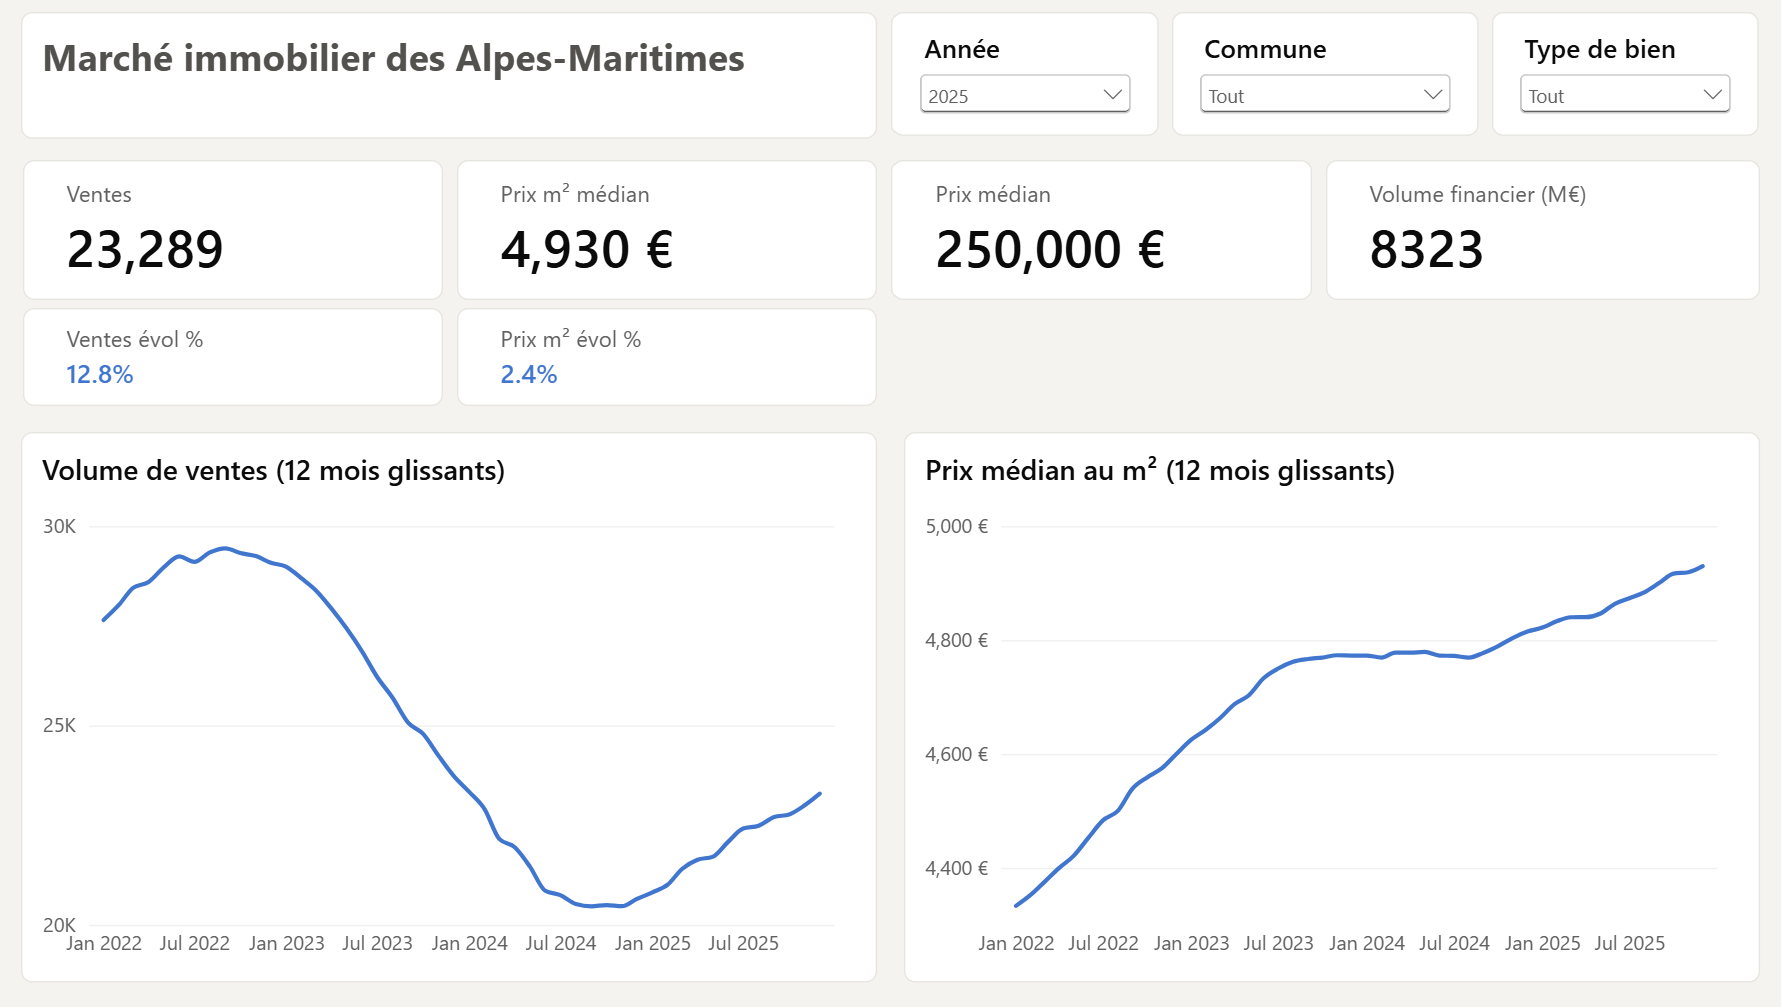

The dashboard page shown, as its layout file describes it:
{"tool":"powerbi","page":{"name":"Vue d’ensemble","canvas":[1280,720],"ordinal":0},"visuals":[{"type":"cardVisual","fields":{"Data":["_Mesures.Ventes"]},"box":[20,115.8,300,100],"z":0},{"type":"textbox","box":[19.2,9.6,611.5,90.4],"z":1000},{"type":"slicer","fields":{"Values":["dim_date.annee"]},"box":[640.4,9.6,190.4,88.5],"z":2000},{"type":"slicer","fields":{"Values":["dim_commune.nom_commune"]},"box":[840.4,9.6,219.2,88.5],"z":3000},{"type":"slicer","fields":{"Values":["dim_type_bien.type_local"]},"box":[1069.2,9.6,190.4,88.5],"z":4000},{"type":"cardVisual","fields":{"Data":["_Mesures.Volume financier (M€)"]},"box":[950,115.8,310,100],"z":5000},{"type":"cardVisual","fields":{"Data":["_Mesures.Prix m² médian"]},"box":[330,115.8,300,100],"z":6000},{"type":"cardVisual","fields":{"Data":["_Mesures.Prix médian"]},"box":[640,115.8,300,100],"z":7000},{"type":"cardVisual","fields":{"Data":["_Mesures.Ventes évol %"]},"box":[20,220.8,300,70],"z":8000},{"type":"cardVisual","fields":{"Data":["_Mesures.Prix m² évol %"]},"box":[330,220.8,300,70],"z":9000},{"type":"lineChart","title":"Volume de ventes (12 mois glissants)","fields":{"Category":["dim_date.debut_mois"],"Y":["_Mesures.Ventes 12 mois glissants"]},"box":[19.2,309.6,611.5,392.3],"z":10000},{"type":"lineChart","title":"Prix médian au m² (12 mois glissants)","fields":{"Category":["dim_date.debut_mois"],"Y":["_Mesures.Prix m² médian 12 mois glissants"]},"box":[648.1,309.6,611.5,392.3],"z":11000}]}

Visuals, with their boxes in screenshot pixels (x1, y1, x2, y2), scaled from the page's 1280x720 canvas onto the 1782x1008 screenshot:
cardVisual - _Mesures.Ventes: crop(28, 162, 446, 302)
textbox: crop(27, 13, 878, 140)
slicer - dim_date.annee: crop(892, 13, 1157, 137)
slicer - dim_commune.nom_commune: crop(1170, 13, 1475, 137)
slicer - dim_type_bien.type_local: crop(1489, 13, 1754, 137)
cardVisual - _Mesures.Volume financier (M€): crop(1323, 162, 1754, 302)
cardVisual - _Mesures.Prix m² médian: crop(459, 162, 877, 302)
cardVisual - _Mesures.Prix médian: crop(891, 162, 1309, 302)
cardVisual - _Mesures.Ventes évol %: crop(28, 309, 446, 407)
cardVisual - _Mesures.Prix m² évol %: crop(459, 309, 877, 407)
"Volume de ventes (12 mois glissants)" lineChart: crop(27, 433, 878, 983)
"Prix médian au m² (12 mois glissants)" lineChart: crop(902, 433, 1754, 983)
